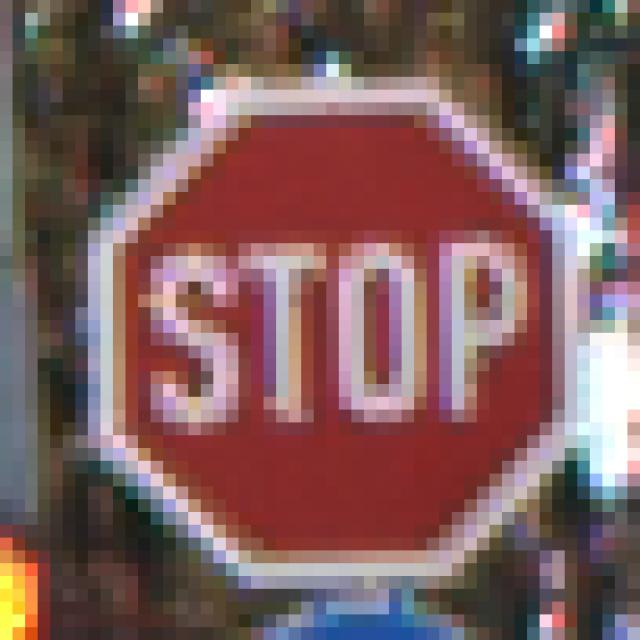STOP: (77, 78, 579, 577)
